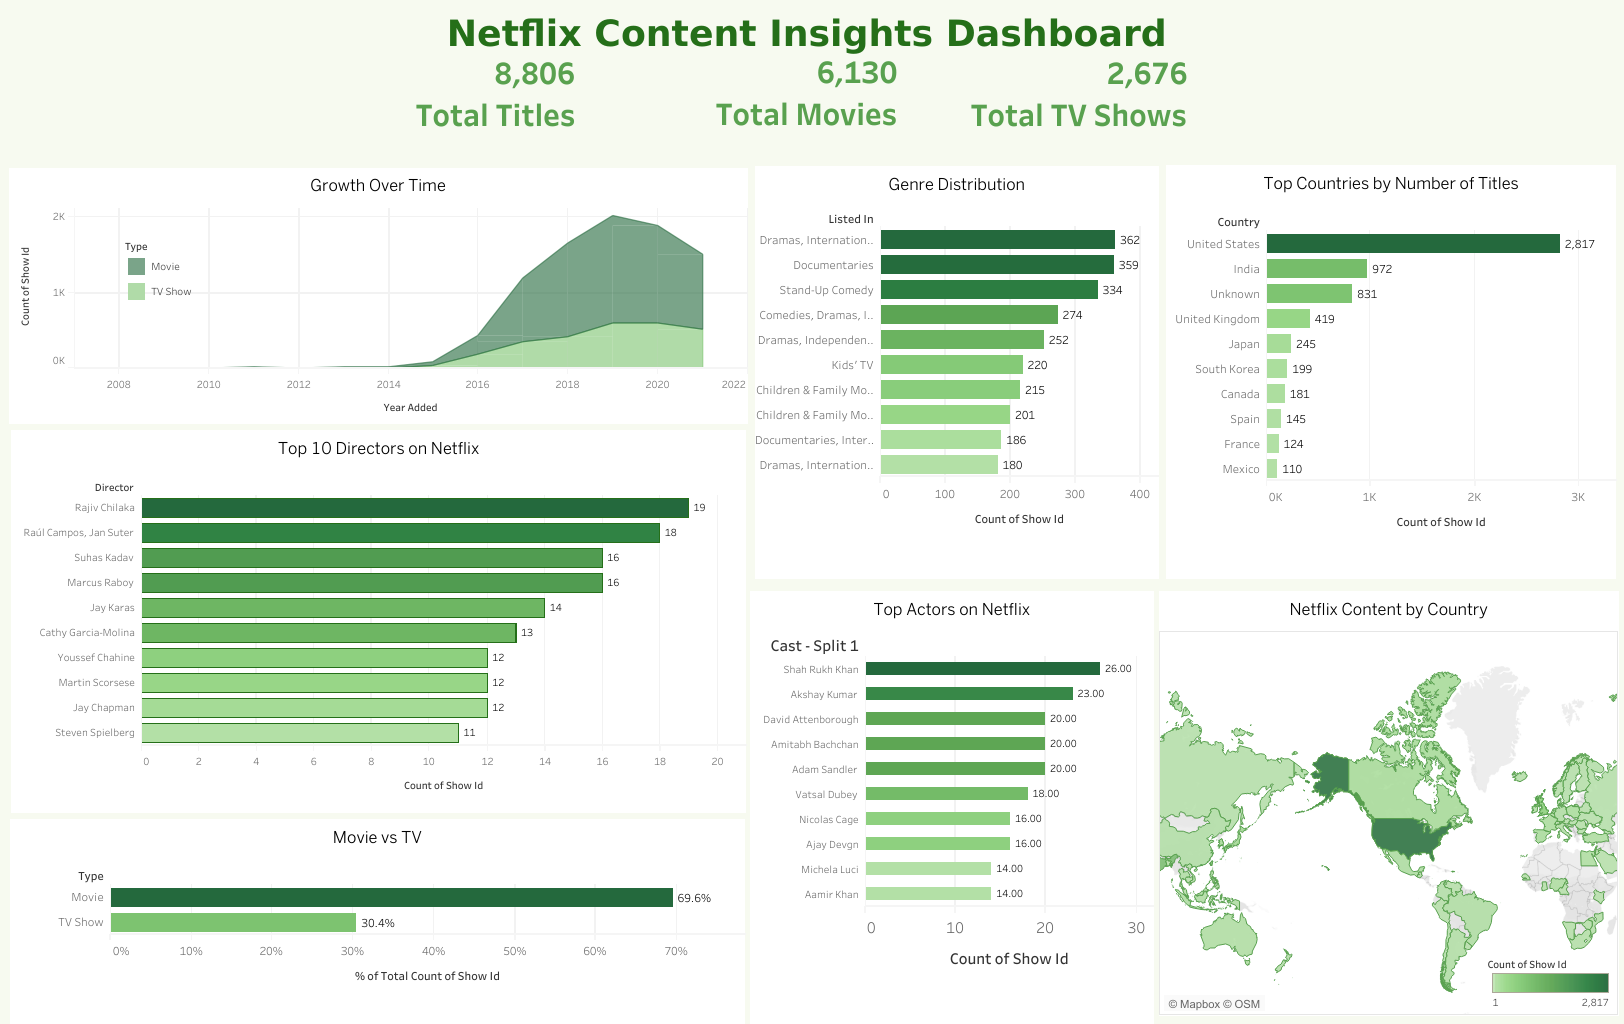

What the dashboard file says about the page in this screenshot:
{"tool":"tableau","page":{"name":"Dashboard 2","canvas":[1000,1000],"units":"permille","ordinal":0},"visuals":[{"type":"dashboard-object","box":[0,0,18.5,29.3]},{"type":"text","box":[6.9,5,979.2,56.2]},{"type":"worksheet","title":"KPI","mark":"Automatic","box":[235.4,30,160.8,141.2]},{"type":"worksheet","title":"Total Movies","mark":"Automatic","box":[390,30.5,188.5,148.8]},{"type":"worksheet","title":"TV SHOWS","mark":"Automatic","box":[562.3,30.5,212.3,137.8]},{"type":"worksheet","title":"Sheet 2","mark":"Automatic","rows":["country"],"cols":["show_id"],"box":[717.7,161,276.9,403.7]},{"type":"worksheet","title":"Sheet 4","mark":"Bar","rows":["listed_in"],"cols":["show_id"],"box":[463.1,162.2,250,402.4]},{"type":"worksheet","title":"Sheet 9","mark":"Area","rows":["show_id"],"cols":["Calculation_1152880508993538"],"box":[5.4,163.4,454.6,258.5]},{"type":"legend","title":"Sheet 9","param":"[federated.0po6o6i0fi1v3l1dwh5f3148s43k].[none:type:nk]","box":[76.2,230,107.7,80]},{"type":"worksheet","title":"Sheet 10","mark":"Automatic","rows":["director"],"cols":["show_id"],"box":[6.9,414.6,452.3,378.1]},{"type":"worksheet","title":"Sheet 11","mark":"Automatic","rows":["cast - Split 1"],"cols":["show_id"],"box":[461.5,576.8,248.5,423.2]},{"type":"worksheet","title":"Sheet 5","mark":"Multipolygon","box":[713.1,576.8,283.1,414.6]},{"type":"worksheet","title":"Sheet 7","mark":"Automatic","rows":["type"],"box":[1.5,801.2,464.6,202.4]},{"type":"legend","title":"Sheet 5","param":"[federated.0po6o6i0fi1v3l1dwh5f3148s43k].[cnt:show_id:qk]","box":[915.4,926.8,78.5,61]}]}

Visuals, with their boxes on the dashboard's canvas, which has no fixed pixel size, in thousandths of its width and height (x1, y1, x2, y2). These are canvas units, not pixel positions in the 1624x1024 screenshot, which may show the page scaled, cropped or inside an application window:
dashboard-object: [x1=0, y1=0, x2=18, y2=29]
text: [x1=7, y1=5, x2=986, y2=61]
"KPI" worksheet: [x1=235, y1=30, x2=396, y2=171]
"Total Movies" worksheet: [x1=390, y1=30, x2=578, y2=179]
"TV SHOWS" worksheet: [x1=562, y1=30, x2=775, y2=168]
"Sheet 2" worksheet: [x1=718, y1=161, x2=995, y2=565]
"Sheet 4" worksheet (Bar marks): [x1=463, y1=162, x2=713, y2=565]
"Sheet 9" worksheet (Area marks): [x1=5, y1=163, x2=460, y2=422]
"Sheet 9" legend: [x1=76, y1=230, x2=184, y2=310]
"Sheet 10" worksheet: [x1=7, y1=415, x2=459, y2=793]
"Sheet 11" worksheet: [x1=462, y1=577, x2=710, y2=1000]
"Sheet 5" worksheet (Multipolygon marks): [x1=713, y1=577, x2=996, y2=991]
"Sheet 7" worksheet: [x1=2, y1=801, x2=466, y2=1004]
"Sheet 5" legend: [x1=915, y1=927, x2=994, y2=988]
